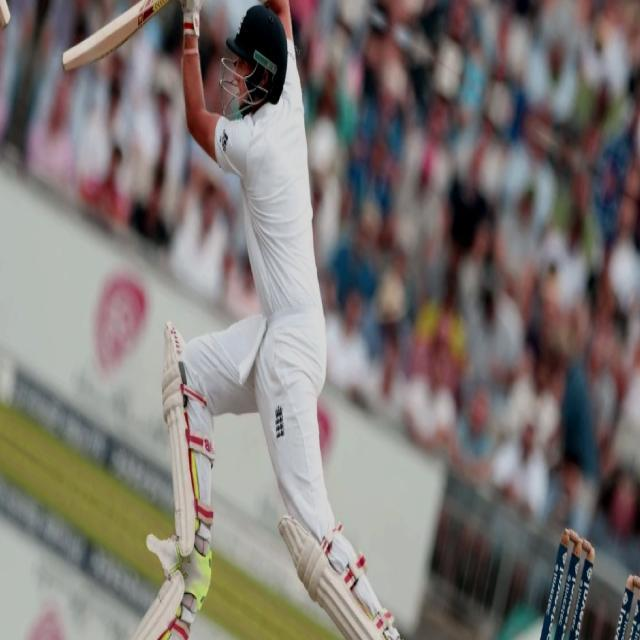bat: (30, 0, 180, 80)
toe: (56, 48, 71, 76)
